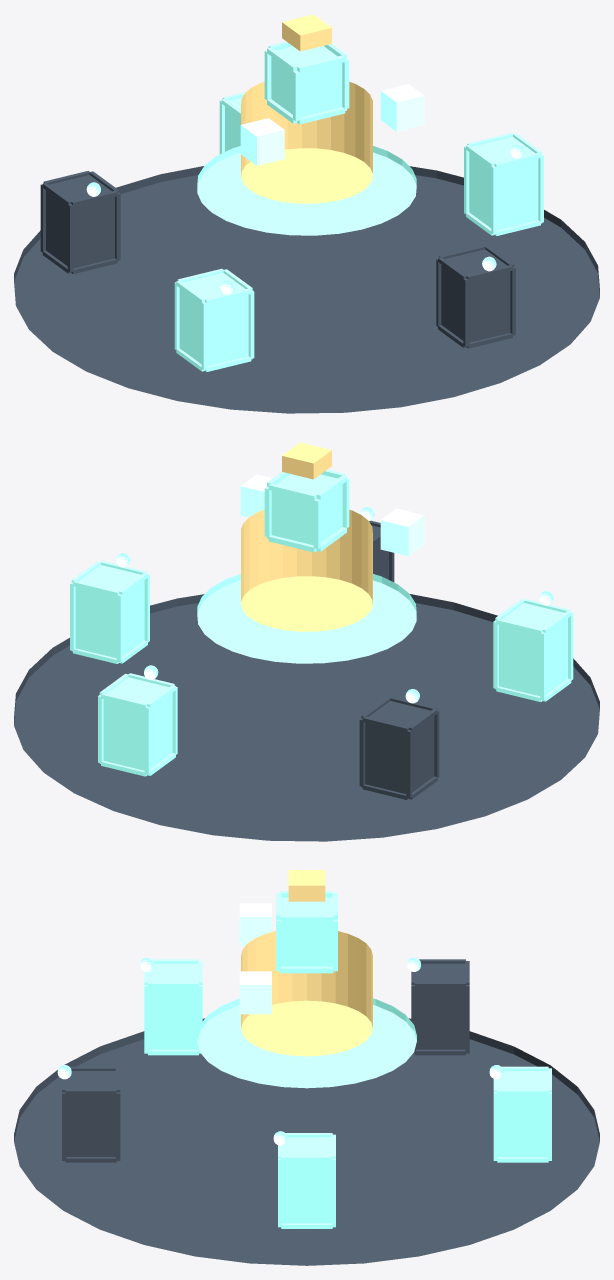
The model's file is cert-cka.glb.
The picture shows the model from 3 angles, top to bottom: view 1: azimuth 30°, elevation 25°; view 2: azimuth 150°, elevation 25°; view 3: azimuth 270°, elevation 25°; orthographic projection.
Visible parts, largest first — view 1: floor-ring, control-plane, cp-halo, worker-2, worker-3, worker-0, worker-1, api-server, scheduler, controller-manager, cka-badge, worker-4; view 2: floor-ring, control-plane, cp-halo, worker-3, worker-2, worker-0, worker-4, api-server, scheduler, cka-badge, controller-manager, worker-1; view 3: floor-ring, control-plane, cp-halo, worker-1, worker-4, worker-0, worker-3, worker-2, api-server, controller-manager, cka-badge, scheduler.
Boxes of the visible parts, bbox=[...] form: floor-ring: bbox=[14, 166, 599, 413]; control-plane: bbox=[241, 81, 372, 203]; cp-halo: bbox=[197, 146, 416, 235]; worker-2: bbox=[174, 268, 254, 371]; worker-3: bbox=[40, 171, 120, 274]; worker-0: bbox=[464, 132, 543, 235]; worker-1: bbox=[436, 245, 515, 348]; api-server: bbox=[264, 41, 349, 124]; scheduler: bbox=[240, 118, 284, 165]; controller-manager: bbox=[380, 84, 424, 131]; cka-badge: bbox=[282, 14, 331, 51]; worker-4: bbox=[219, 92, 245, 154]; floor-ring: bbox=[14, 594, 599, 841]; control-plane: bbox=[241, 509, 372, 631]; cp-halo: bbox=[197, 574, 416, 663]; worker-3: bbox=[359, 696, 439, 799]; worker-2: bbox=[493, 599, 573, 702]; worker-0: bbox=[70, 560, 149, 663]; worker-4: bbox=[98, 673, 177, 776]; api-server: bbox=[264, 469, 349, 552]; scheduler: bbox=[380, 508, 424, 556]; cka-badge: bbox=[282, 442, 331, 479]; controller-manager: bbox=[240, 474, 272, 517]; worker-1: bbox=[369, 520, 394, 582]; floor-ring: bbox=[14, 1018, 599, 1265]; control-plane: bbox=[241, 931, 372, 1056]; cp-halo: bbox=[197, 998, 416, 1088]; worker-1: bbox=[62, 1066, 120, 1162]; worker-4: bbox=[493, 1066, 551, 1162]; worker-0: bbox=[278, 1133, 335, 1228]; worker-3: bbox=[411, 959, 469, 1055]; worker-2: bbox=[144, 959, 202, 1055]; api-server: bbox=[276, 891, 337, 973]; controller-manager: bbox=[239, 971, 271, 1014]; cka-badge: bbox=[288, 870, 325, 901]; scheduler: bbox=[239, 903, 271, 946].
Size of what is drawn, in the model's own units: 4 by 2.38 by 4.
